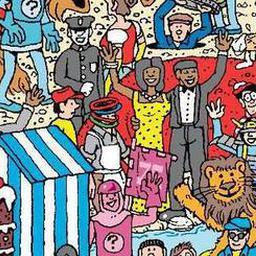waldo: (226, 75, 256, 118)
